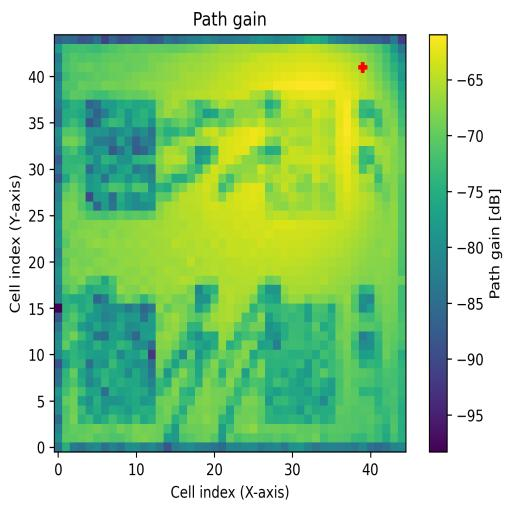Concrete: (266, 101, 336, 209)
Glass: (86, 100, 155, 210)
Metal: (265, 304, 336, 423)
Wood: (78, 303, 157, 425)
